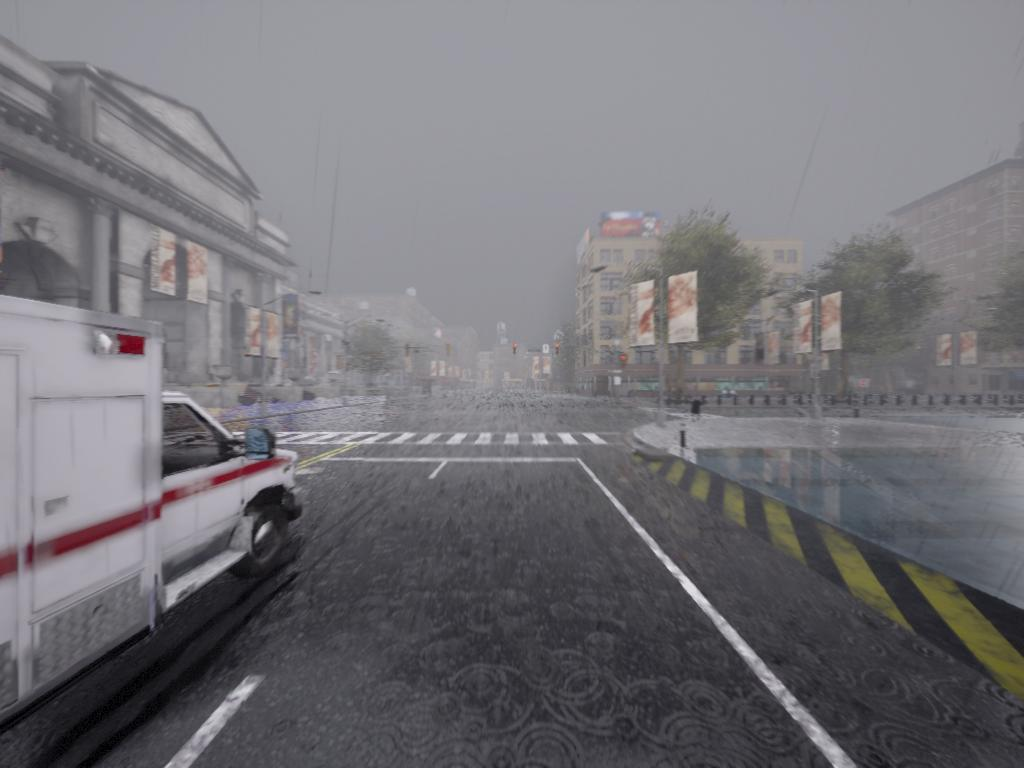traffic_light: (446, 344, 452, 358), (512, 346, 519, 357), (556, 343, 561, 356), (406, 344, 411, 357), (621, 353, 625, 368)
